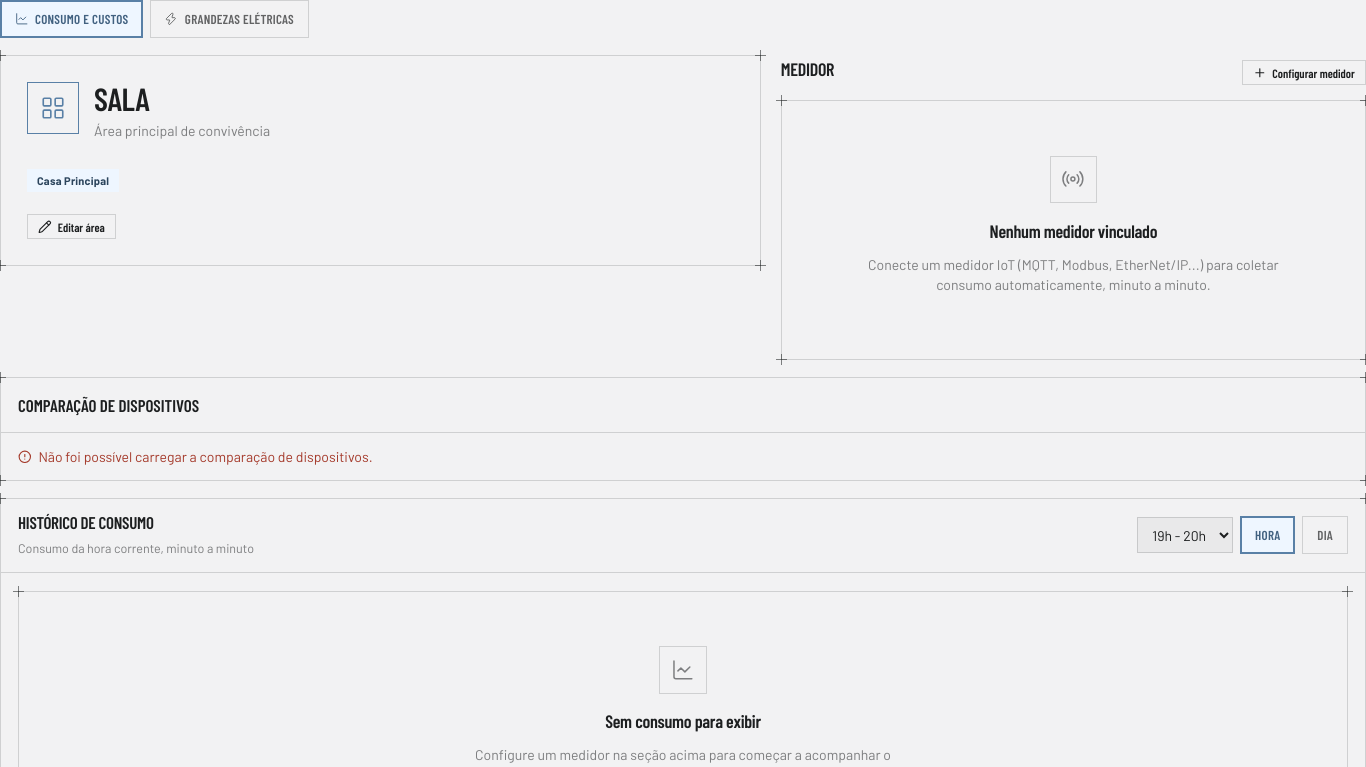
AreaDetailsPage — botão Editar área › abre o modal de edição ao clicar em 'Editar área'
The width and height of the screenshot is (1366, 767).
Click the button "Editar área" at (71, 227), box [27,214,116,239]
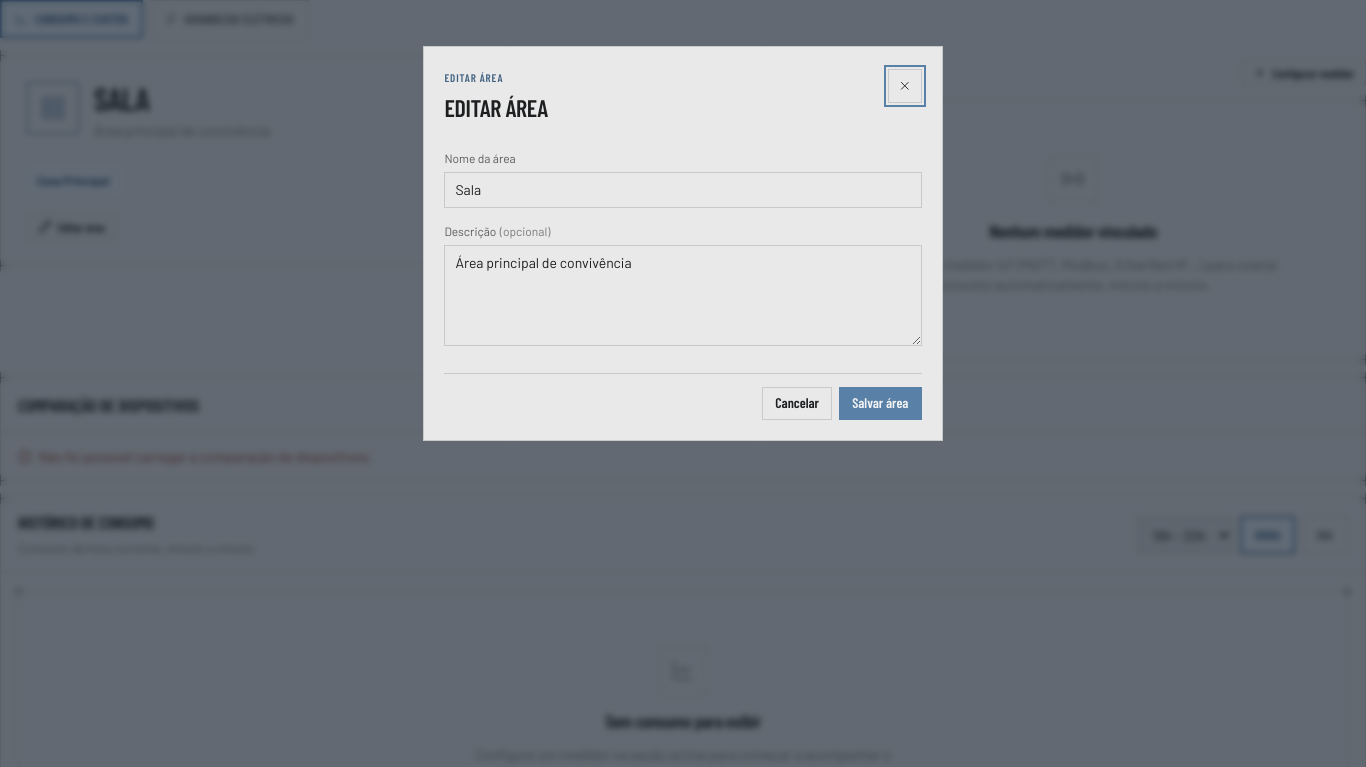
Expected: the dialog "Editar área" is shown, [423,46,943,441]
